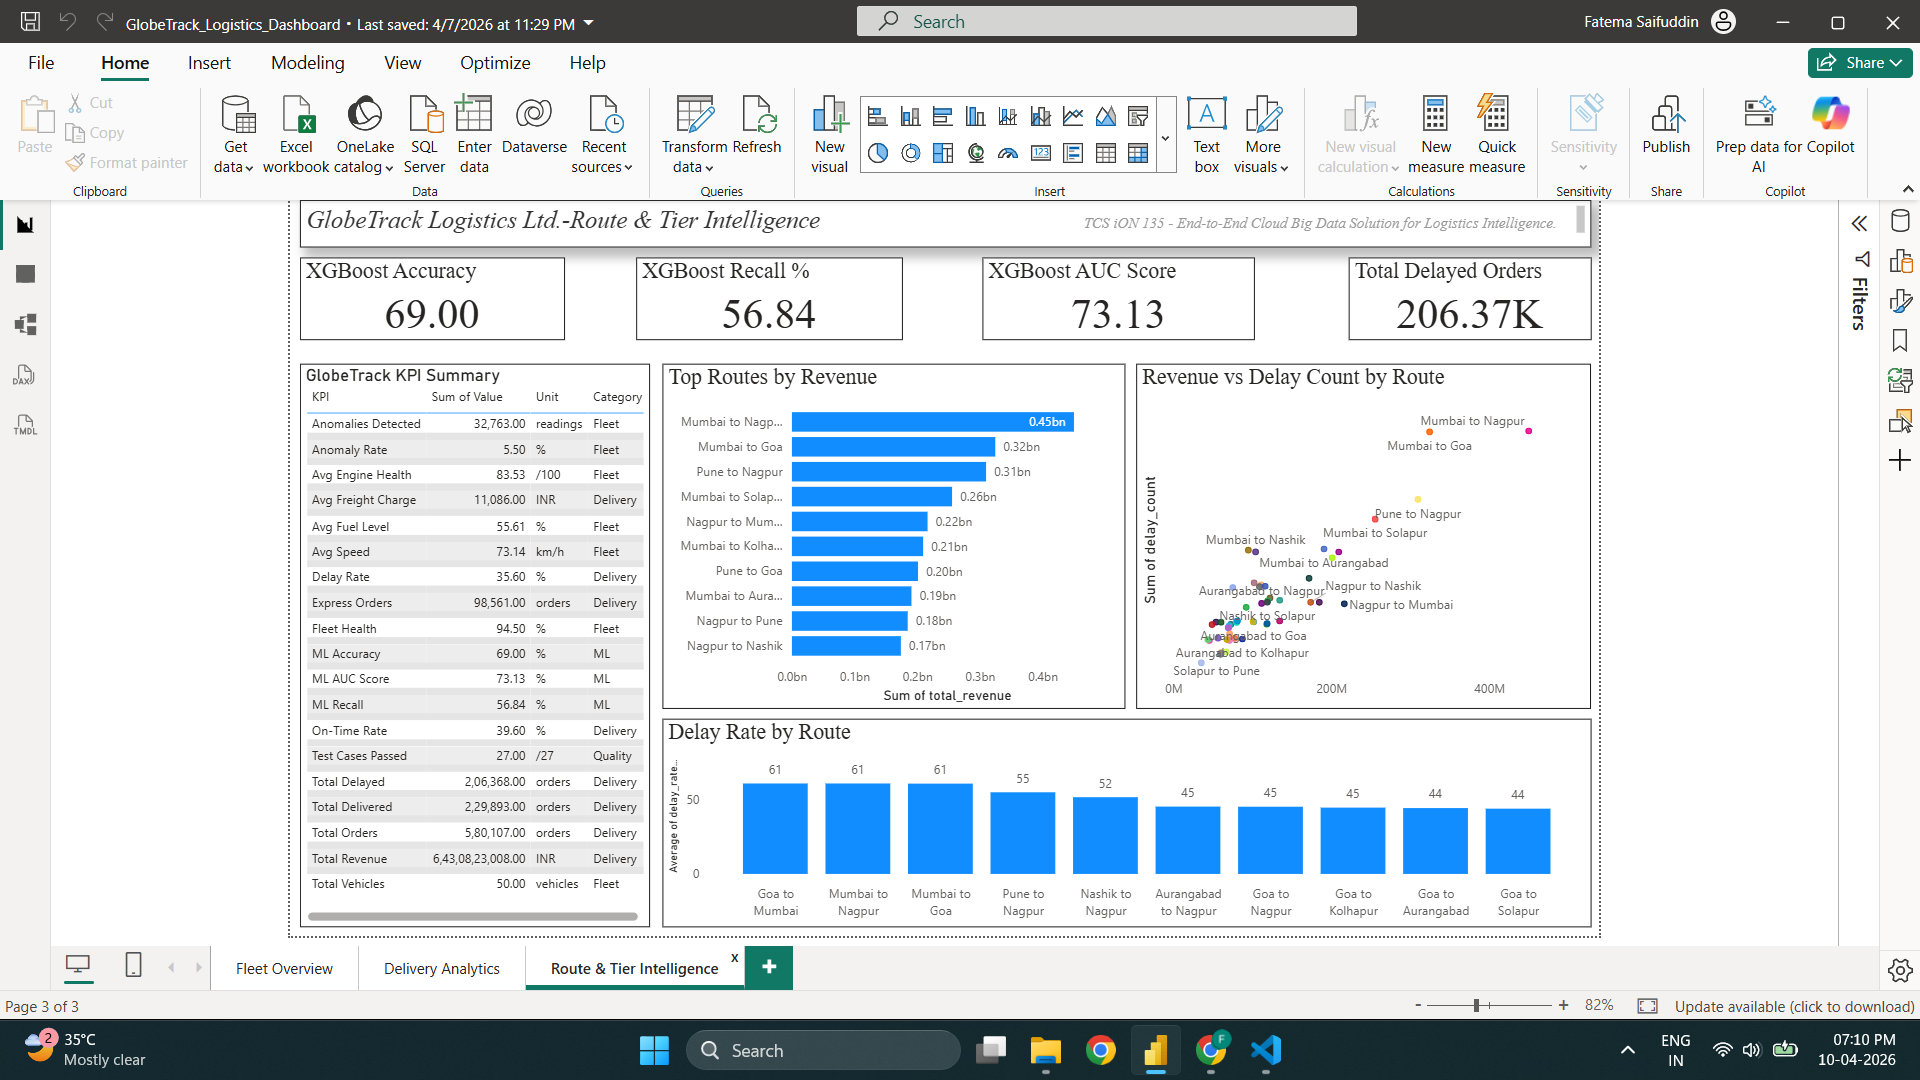

What the dashboard file says about the page in this screenshot:
{"tool":"powerbi","page":{"name":"Route & Tier Intelligence","canvas":[1280,720],"ordinal":2},"visuals":[{"type":"textbox","box":[9.8,0,1263.2,46.5],"z":0},{"type":"card","title":"XGBoost Accuracy","fields":{"Values":["Avg(kpi_summary.Value)"]},"box":[9.8,56.3,259.2,80.7],"z":1},{"type":"card","title":"XGBoost Recall %","fields":{"Values":["Avg(kpi_summary.Value)"]},"box":[338.7,56.3,260.5,80.7],"z":2},{"type":"card","title":"XGBoost AUC Score","fields":{"Values":["Avg(kpi_summary.Value)"]},"box":[677.4,56.3,266.6,80.7],"z":3},{"type":"card","title":"Total Delayed Orders","fields":{"Values":["Avg(kpi_summary.Value)"]},"box":[1035.7,56.3,237.2,80.7],"z":4},{"type":"clusteredBarChart","title":"Top Routes by Revenue","fields":{"Category":["route_analysis.route"],"Y":["Sum(route_analysis.total_revenue)"]},"box":[364.4,160.2,452.4,337.5],"z":5},{"type":"clusteredColumnChart","title":"Delay Rate by Route","fields":{"Category":["route_analysis.route"],"Y":["Avg(route_analysis.delay_rate_pct)"]},"box":[364.4,507.5,908.6,204.2],"z":6},{"type":"scatterChart","title":"Revenue vs Delay Count by Route","fields":{"X":["Sum(route_analysis.total_revenue)"],"Y":["Sum(route_analysis.delay_count)"],"Category":["route_analysis.route"],"Series":["route_analysis.route"]},"box":[827.9,160.2,445.1,337.5],"z":7},{"type":"tableEx","title":"GlobeTrack KPI Summary","fields":{"Values":["kpi_summary.KPI","Sum(kpi_summary.Value)","kpi_summary.Unit","kpi_summary.Category"]},"box":[9.8,160.2,342.4,551.5],"z":8}]}

Visuals, with their boxes on the page's 1280x720 design canvas (x1, y1, x2, y2). These are canvas units, not pixel positions in the 1920x1080 screenshot, which may show the page scaled, cropped or inside an application window:
textbox: BBox(10, 0, 1273, 46)
"XGBoost Accuracy" card: BBox(10, 56, 269, 137)
"XGBoost Recall %" card: BBox(339, 56, 599, 137)
"XGBoost AUC Score" card: BBox(677, 56, 944, 137)
"Total Delayed Orders" card: BBox(1036, 56, 1273, 137)
"Top Routes by Revenue" clusteredBarChart: BBox(364, 160, 817, 498)
"Delay Rate by Route" clusteredColumnChart: BBox(364, 508, 1273, 712)
"Revenue vs Delay Count by Route" scatterChart: BBox(828, 160, 1273, 498)
"GlobeTrack KPI Summary" tableEx: BBox(10, 160, 352, 712)
